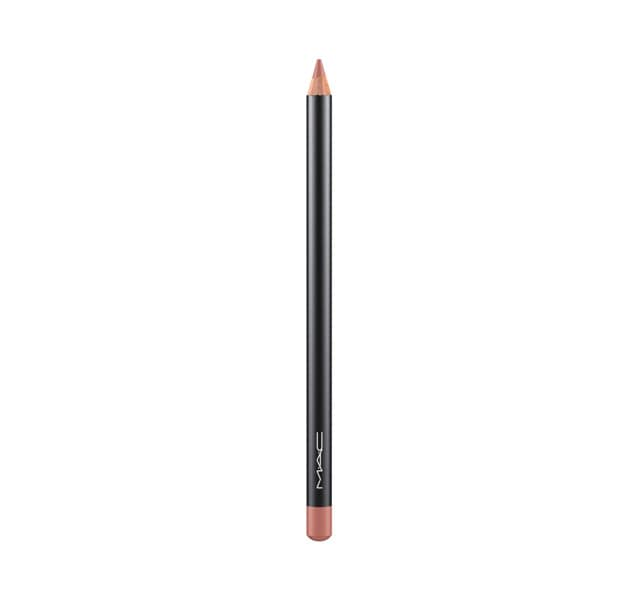pencil: (257, 34, 397, 559)
